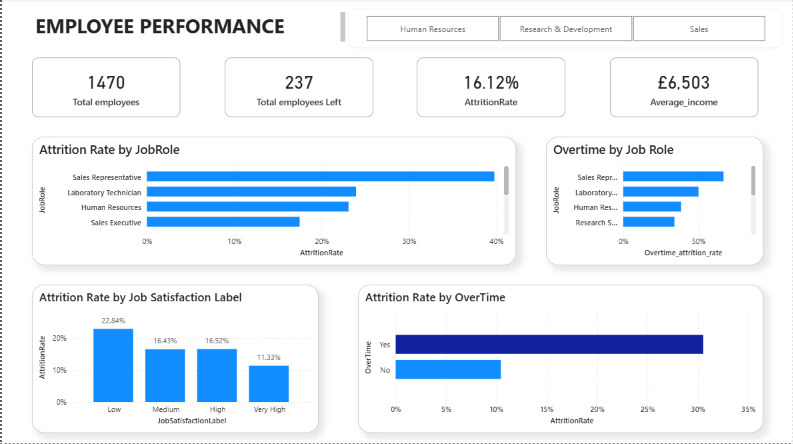

This screenshot's page, from the dashboard's own definition file:
{"tool":"powerbi","page":{"name":"Page 2","canvas":[1280,720],"ordinal":1},"visuals":[{"type":"slicer","fields":{"Values":["HRdata_attrition.Department"]},"box":[560,16,704,64],"z":0},{"type":"card","fields":{"Values":["Measure Table.Total employees"]},"box":[48,96,240,96],"z":0,"group":"g1"},{"type":"clusteredBarChart","title":"Overtime by Job Role","fields":{"Category":["HRdata_attrition.JobRole"],"Y":["Measure Table.Overtime_attrition_rate"]},"box":[880,224,352,208],"z":0,"group":"g2"},{"type":"textbox","box":[48,16,512,64],"z":1000},{"type":"card","fields":{"Values":["Measure Table.Total employees Left"]},"box":[360,96,240,96],"z":1000,"group":"g1"},{"type":"clusteredBarChart","title":"Attrition Rate by JobRole","fields":{"Category":["HRdata_attrition.JobRole"],"Y":["Measure Table.AttritionRate"]},"box":[48,224,784,208],"z":1000,"group":"g2"},{"type":"group","id":"g1","title":"Cards","box":[48,96,1176,96],"z":2000},{"type":"card","fields":{"Values":["Measure Table.Average_income"]},"box":[984,96,240,96],"z":2000,"group":"g1"},{"type":"barChart","title":"Attrition Rate by OverTime","fields":{"Category":["HRdata_attrition.OverTime"],"Y":["Measure Table.AttritionRate"]},"box":[576,464,656,240],"z":2000,"group":"g2"},{"type":"card","fields":{"Values":["Measure Table.AttritionRate"]},"box":[672,96,240,96],"z":3000,"group":"g1"},{"type":"group","id":"g2","title":"charts","box":[48,224,1184,480],"z":3000},{"type":"clusteredColumnChart","title":"Attrition Rate by Job Satisfaction Label","fields":{"Category":["HRdata_attrition.JobSatisfactionLabel"],"Y":["Measure Table.AttritionRate"]},"box":[48,464,464,240],"z":3000,"group":"g2"}]}

Visuals, with their boxes in screenshot pixels (x1, y1, x2, y2), scaled from the page's 1280x720 canvas onto the 793x444 screenshot:
slicer - HRdata_attrition.Department: left=347, top=10, right=783, bottom=49
card - Measure Table.Total employees: left=30, top=59, right=178, bottom=118
"Overtime by Job Role" clusteredBarChart: left=545, top=138, right=763, bottom=266
textbox: left=30, top=10, right=347, bottom=49
card - Measure Table.Total employees Left: left=223, top=59, right=372, bottom=118
"Attrition Rate by JobRole" clusteredBarChart: left=30, top=138, right=515, bottom=266
"Cards" group: left=30, top=59, right=758, bottom=118
card - Measure Table.Average_income: left=610, top=59, right=758, bottom=118
"Attrition Rate by OverTime" barChart: left=357, top=286, right=763, bottom=434
card - Measure Table.AttritionRate: left=416, top=59, right=565, bottom=118
"charts" group: left=30, top=138, right=763, bottom=434
"Attrition Rate by Job Satisfaction Label" clusteredColumnChart: left=30, top=286, right=317, bottom=434
